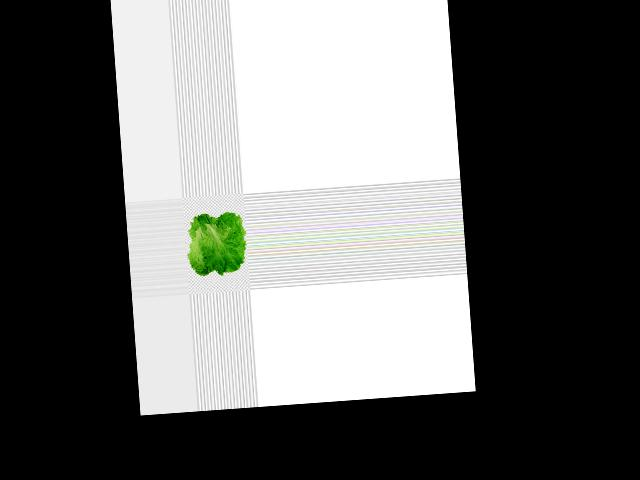lettuce: (182, 206, 250, 281)
